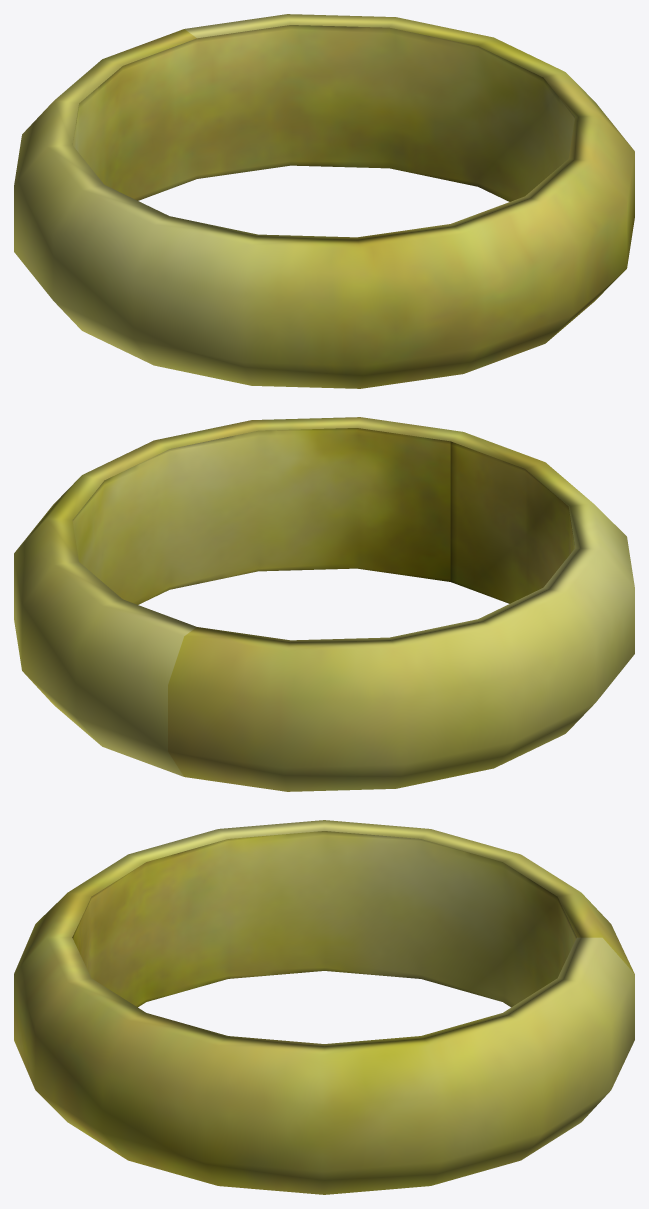
The model's file is Ring 1.fbx.
3 renders of one model, top to bottom at view 1: azimuth 30°, elevation 25°; view 2: azimuth 150°, elevation 25°; view 3: azimuth 270°, elevation 25°, orthographic.
Parts seen in each view (by area): view 1: Ring_1; view 2: Ring_1; view 3: Ring_1.
Boxes of the visible parts, x1,y1,x2,y2 form: Ring_1: (14,14,634,388); Ring_1: (14,417,634,791); Ring_1: (14,820,634,1194).
Size of the model in its own units: 0.1511 by 0.0375 by 0.1506.
